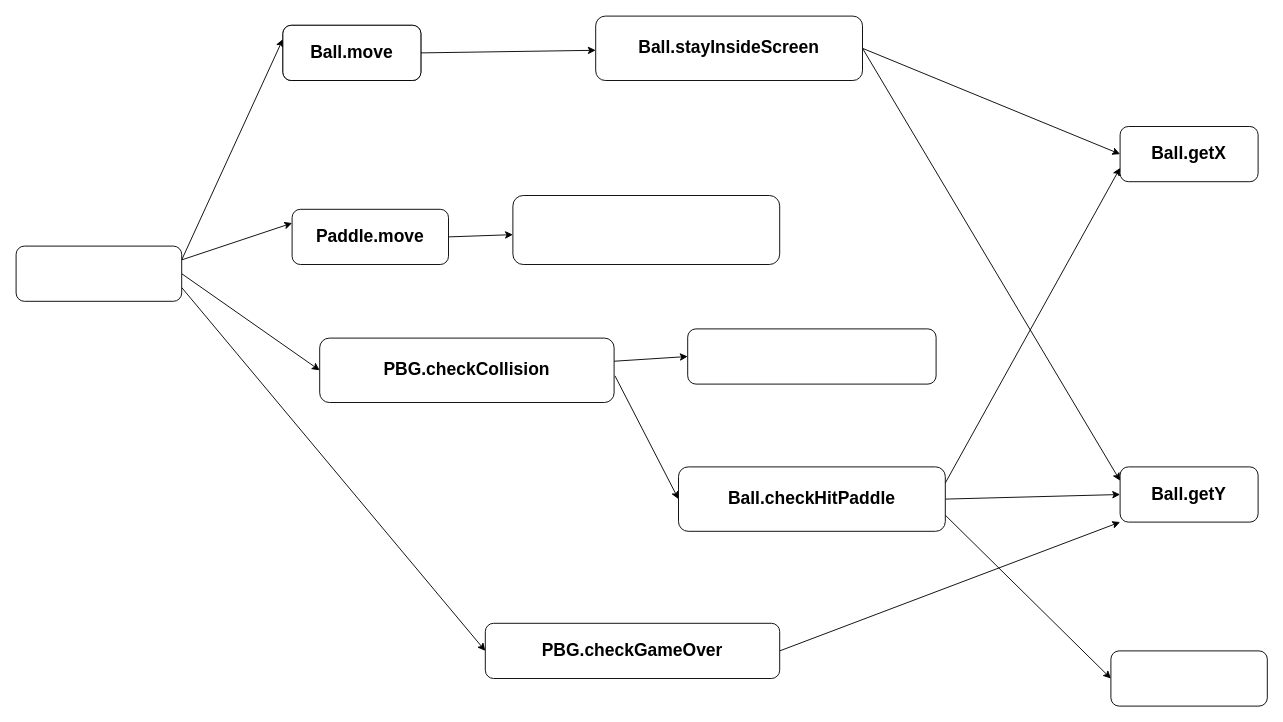
Some shapes in this 1283 by 722 pixel diagram are drawn without their labels. The shapes that lost their labels are listed below. From the top down, each one's centre as x and y in pixels, then its label:
At [646,229]: "Paddle.stayInsideScreen".
At [98,273]: "PBG.update".
At [811,356]: "Ball.bounceOffPaddle".
At [1188,678]: "Paddle.getX".
